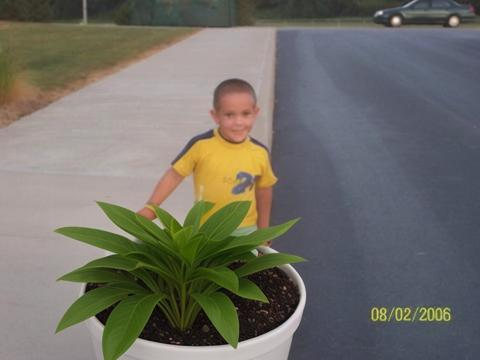car: (374, 1, 477, 29)
person: (139, 78, 278, 330)
pottedplant: (55, 201, 306, 360)
